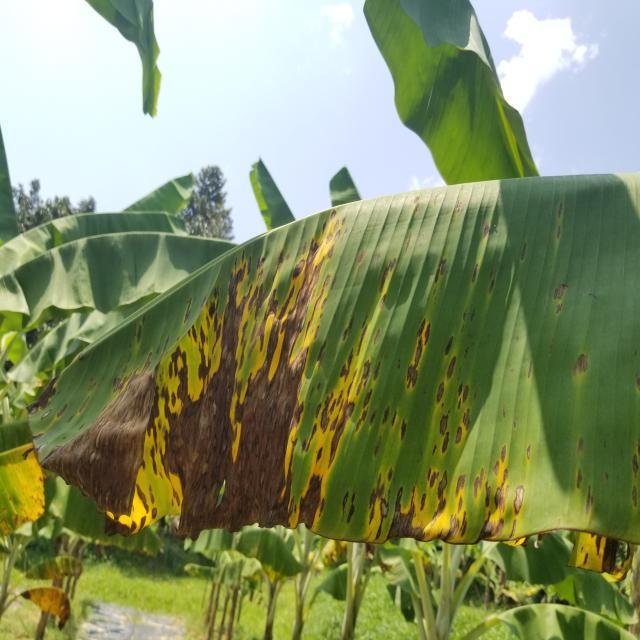Early_rust: (0, 183, 640, 591), (5, 573, 105, 634)
